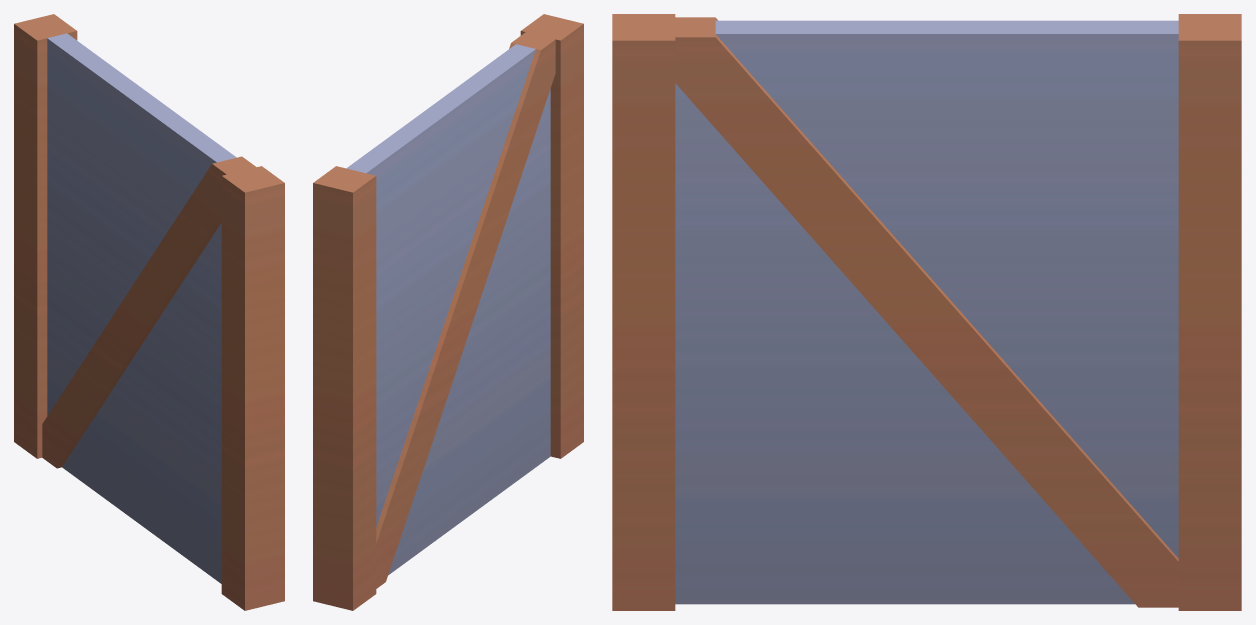
File: wall-detail-diagonal.glb
3 views of the same model, side by side, from view 1: azimuth 30°, elevation 25°; view 2: azimuth 150°, elevation 25°; view 3: azimuth 270°, elevation 25° (orthographic). The views are drawn at different scales.
Visible parts, largest first — view 1: wall-detail-diagonal; view 2: wall-detail-diagonal; view 3: wall-detail-diagonal.
Part boxes in pixels (<box>): wall-detail-diagonal: <box>14,14,284,610</box>; wall-detail-diagonal: <box>313,14,583,610</box>; wall-detail-diagonal: <box>612,14,1241,610</box>.
Size of the model in its own units: 0.1 by 1 by 1.
Materials: 1 (1 with a texture image).
